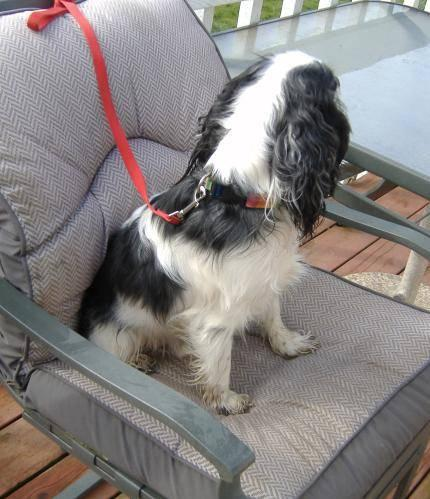dog: (77, 51, 350, 413)
